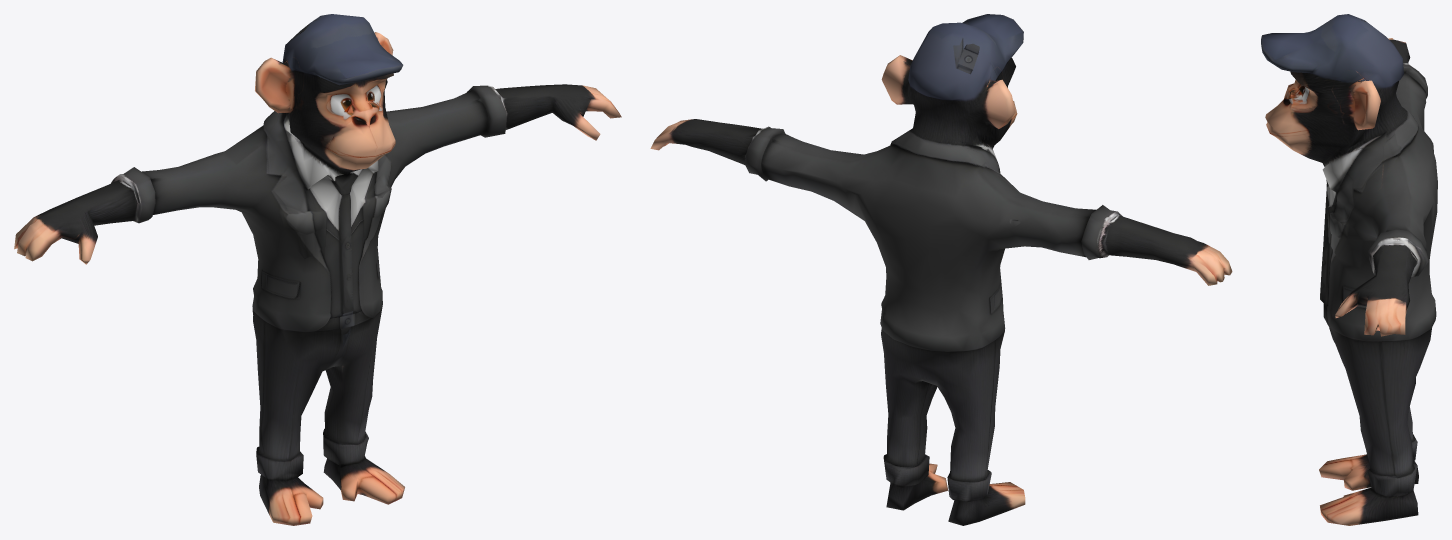
Rendered from _1128222849_texture.fbx.
3 renders of one model, left to right at view 1: azimuth 30°, elevation 25°; view 2: azimuth 150°, elevation 25°; view 3: azimuth 270°, elevation 25°, orthographic. The views are drawn at different scales.
Parts seen in each view (by area): view 1: Mesh_0; view 2: Mesh_0; view 3: Mesh_0.
Boxes of the visible parts, x1,y1,x2,y2 form: Mesh_0: (14,14,621,525); Mesh_0: (650,14,1232,525); Mesh_0: (1261,14,1437,525).
Bounding box in the file's own units: 200 × 157 × 52.83.
1 material, 1 textured.
